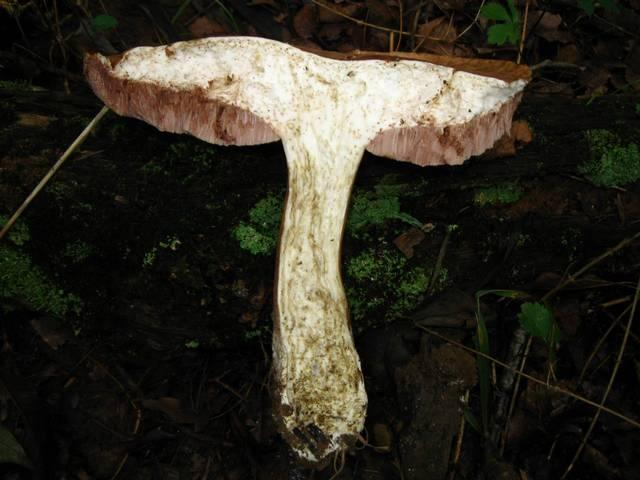poisonous_mushroom: (80, 33, 532, 468)
